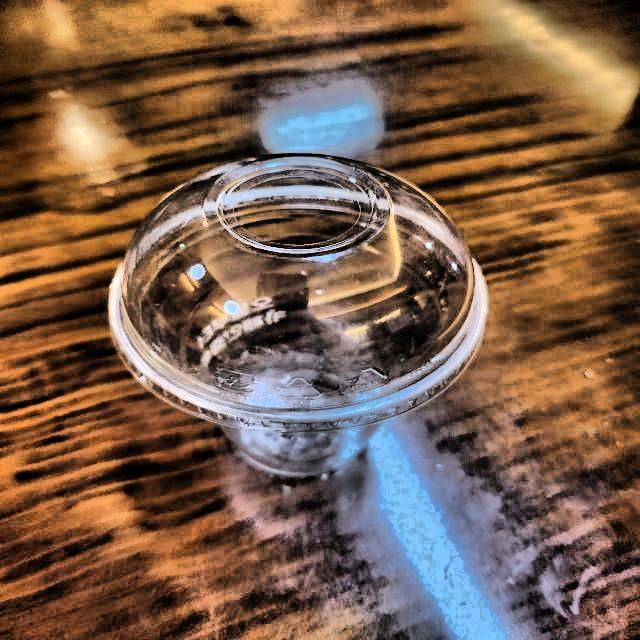plastic cup: (79, 134, 511, 542)
